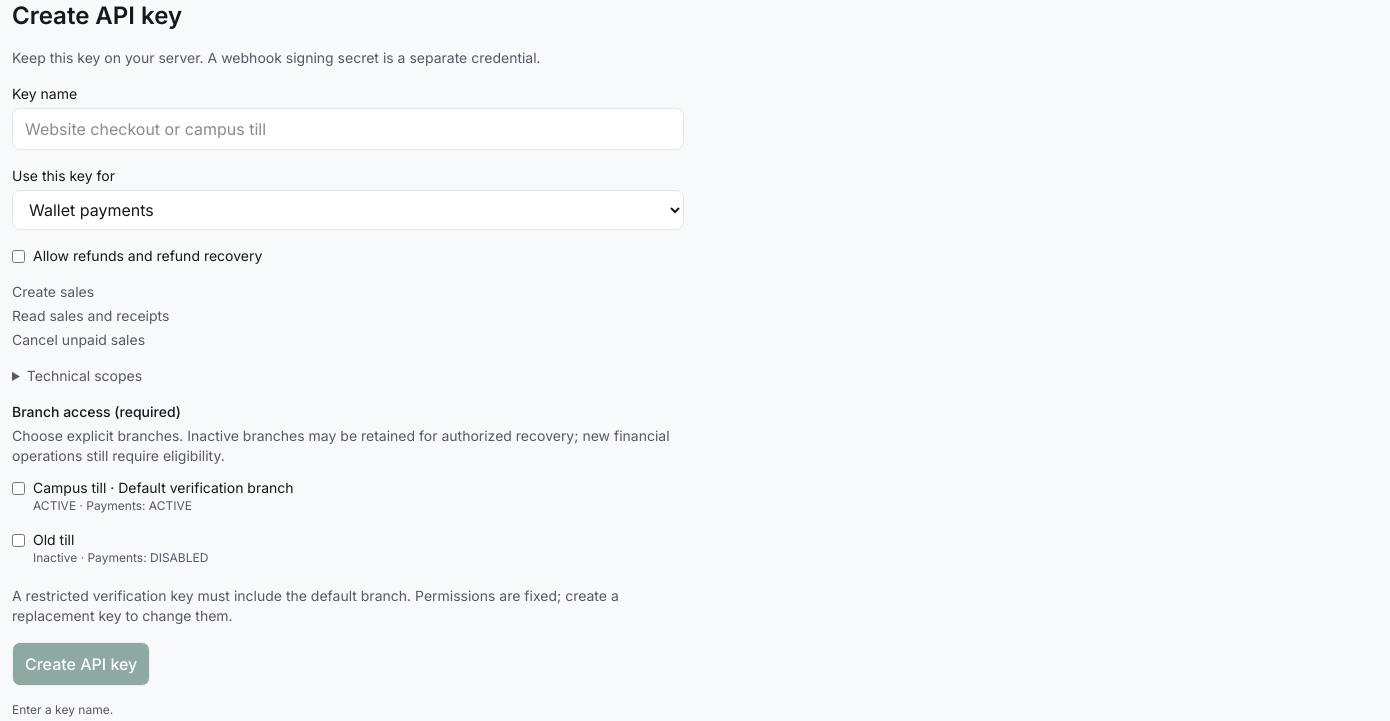
API key settings › requires branch access and keeps refund permissions an explicit choice
Type "Till" into the field labelled "Key name".
click(348, 129); type("Till")  # box [12,108,684,150]
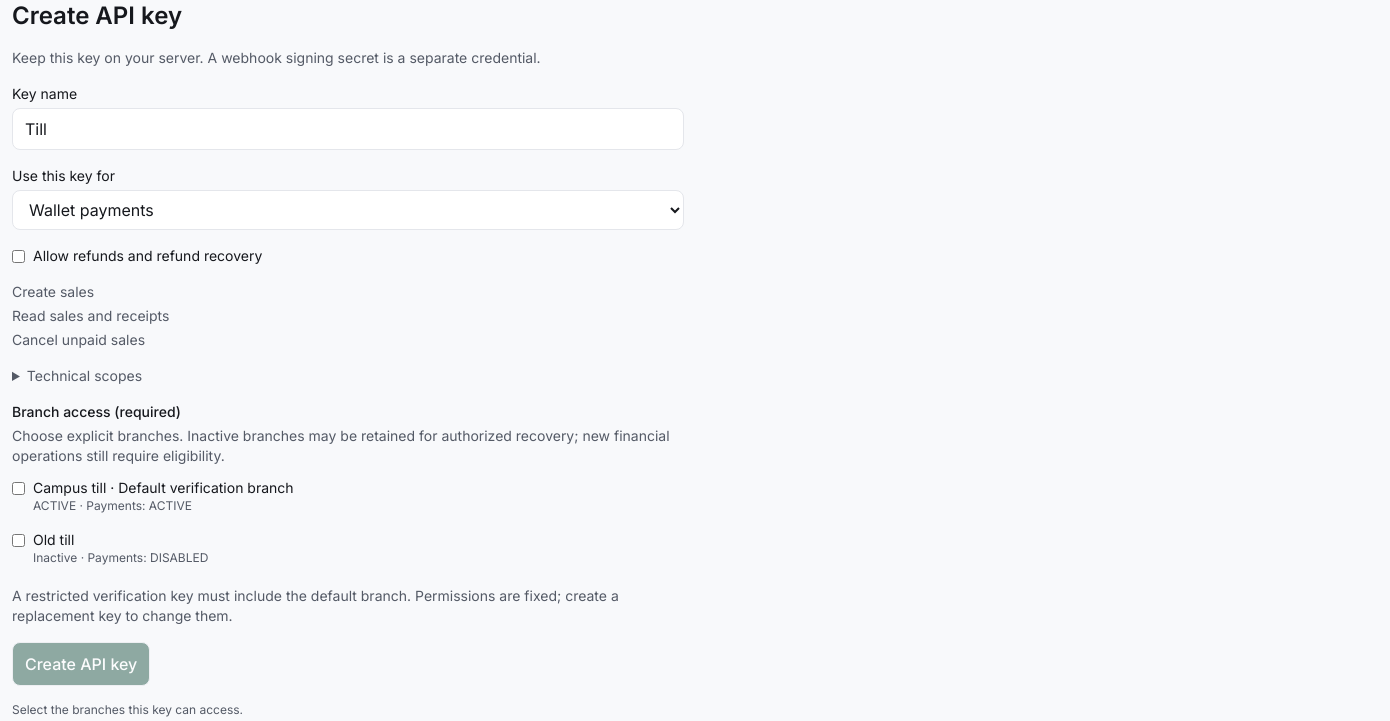
Expected: the button "Create API key" is disabled, [12,642,150,686]
Expected: the checkbox labelled "Allow refunds and refund recovery" is not checked, [12,250,25,262]
Click the checkbox labelled "Campus till".
click(18, 488)  # box [12,482,25,495]
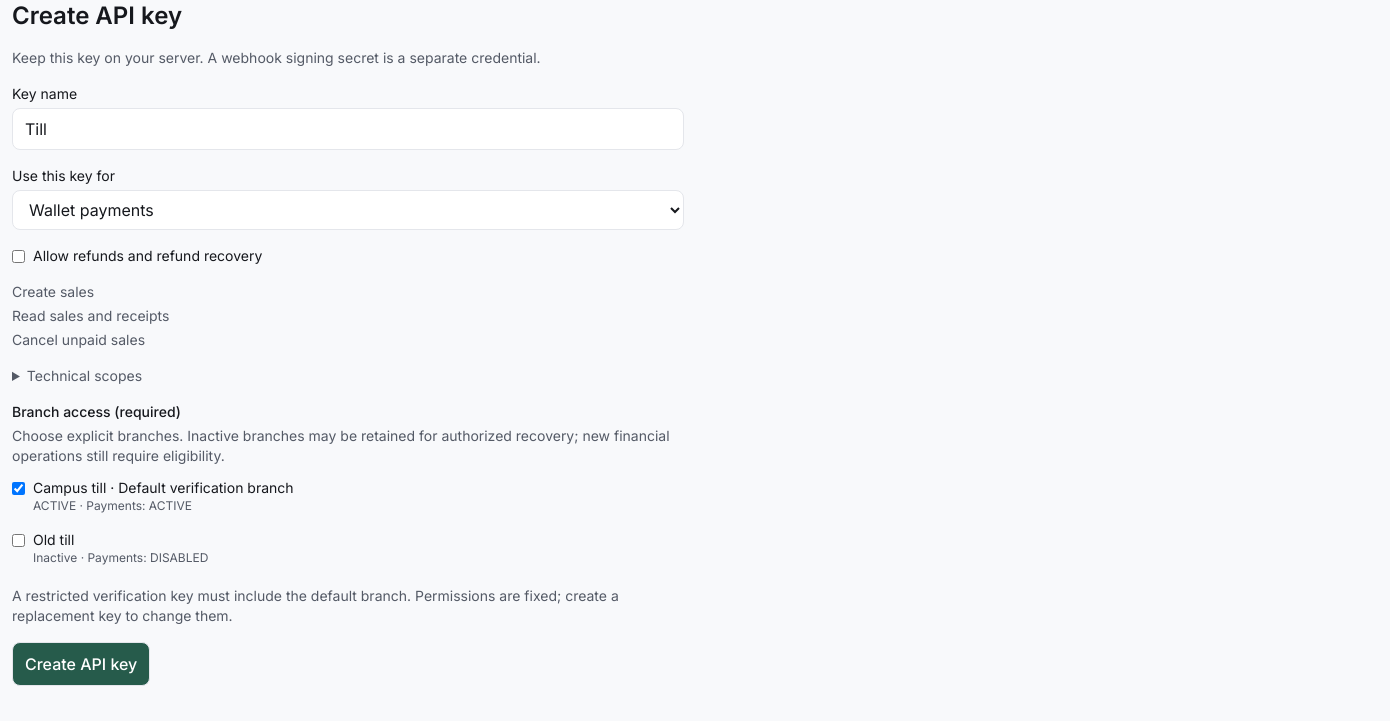
Click the button "Create API key".
click(81, 664)  # box [12,642,150,686]
(page scrolled)
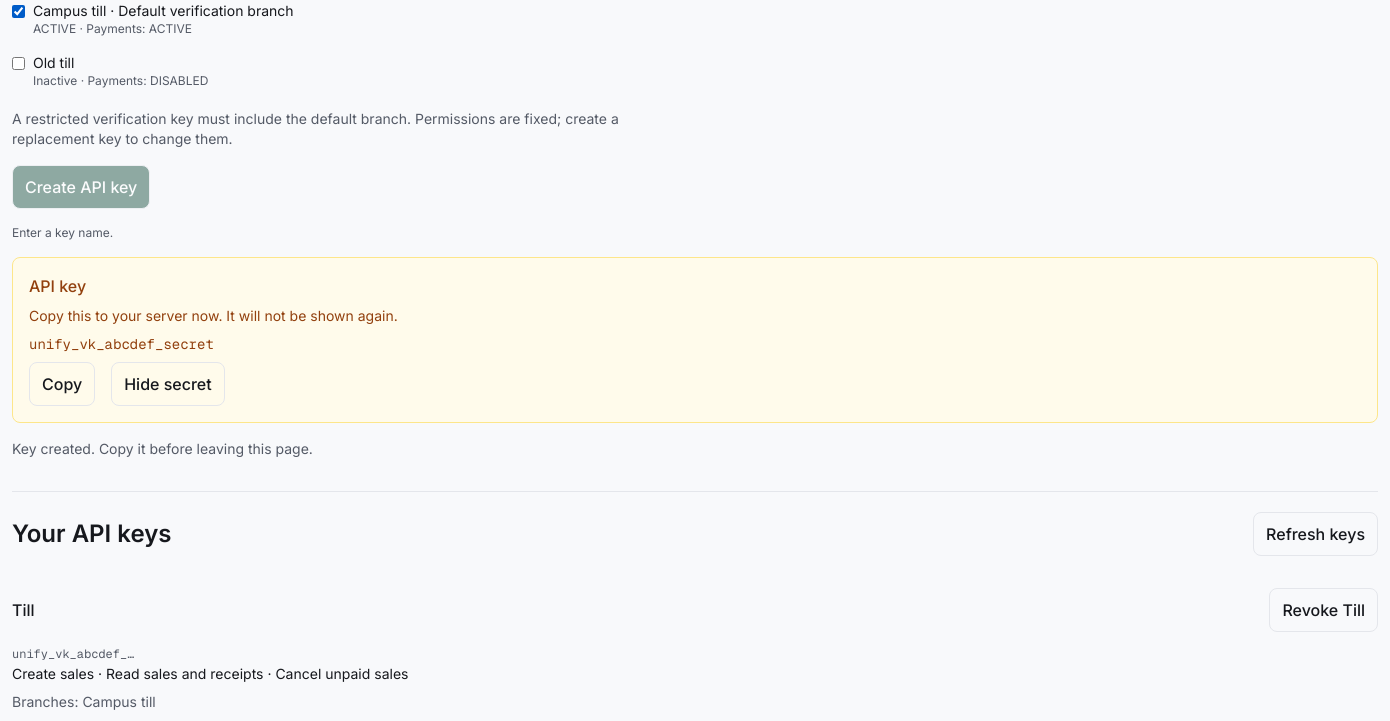
Expected: the text "unify_vk_abcdef_secret" is shown, [29,335,214,353]
Click the button "Hide secret".
click(168, 384)  # box [111,362,225,406]
(page scrolled)
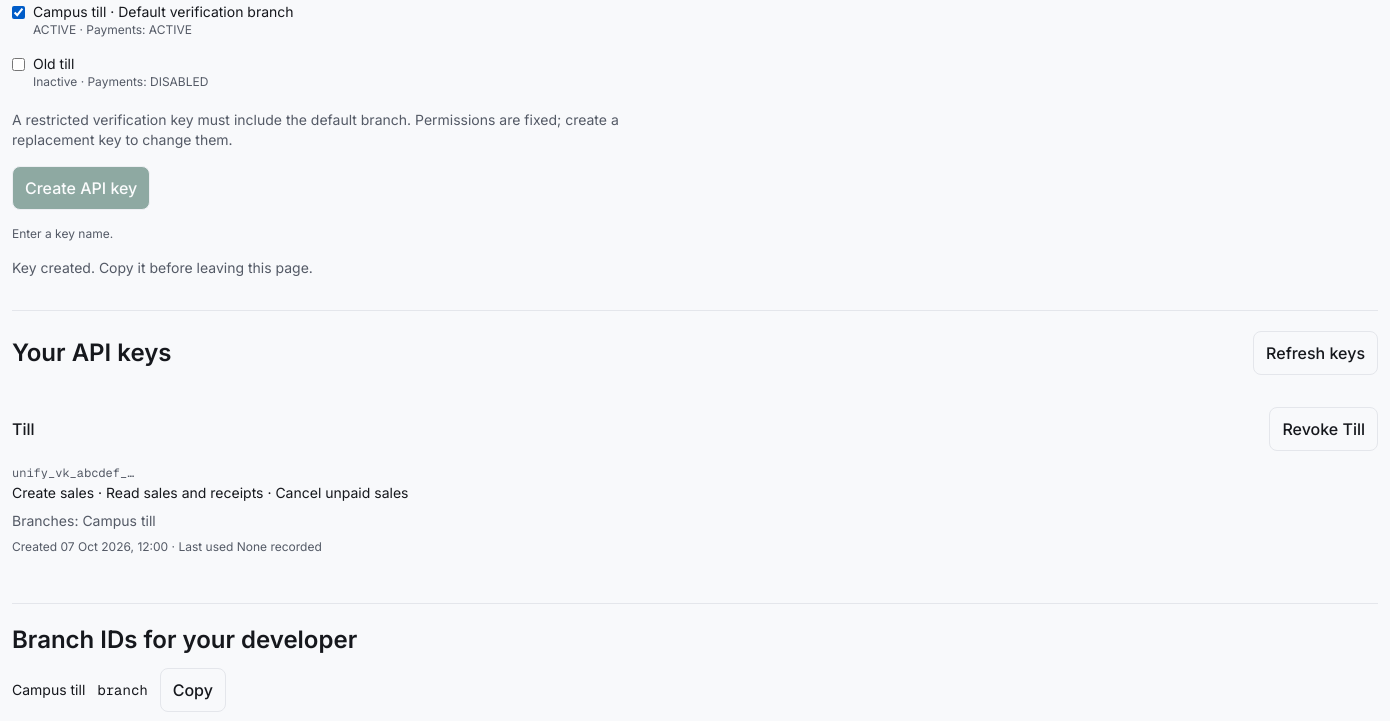
Expected: the text "unify_vk_abcdef_secret" is gone
